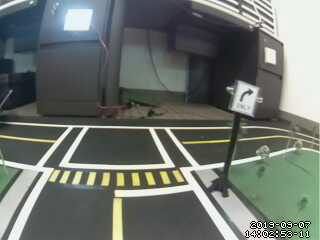Right_only_sign: (234, 80, 258, 124)
